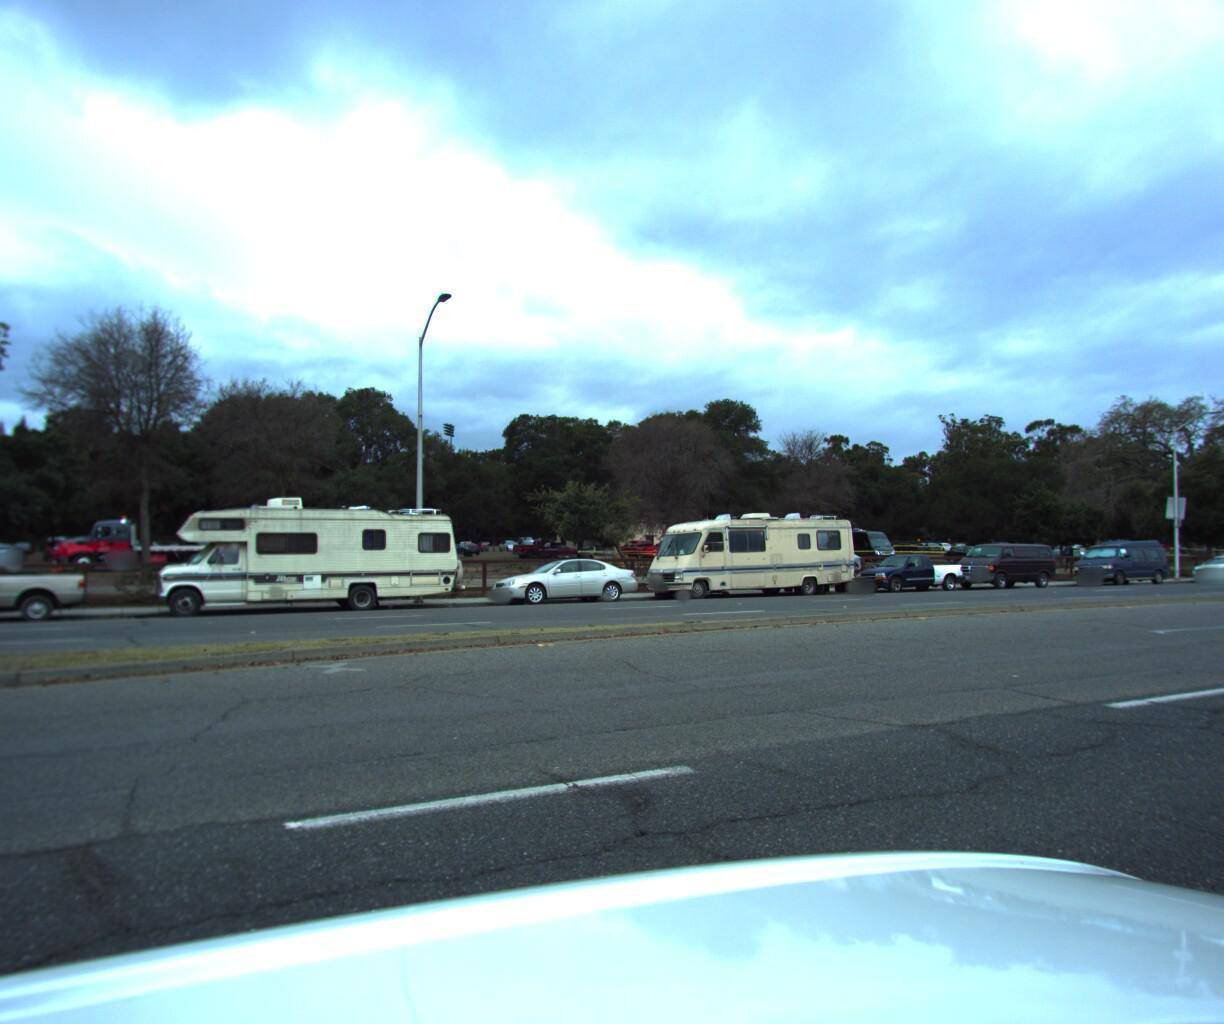car: (477, 552, 641, 603), (943, 537, 1056, 586), (848, 547, 965, 593), (1060, 537, 1166, 581), (1177, 548, 1224, 578)
other_vehicle: (152, 488, 470, 620), (634, 504, 862, 599)
